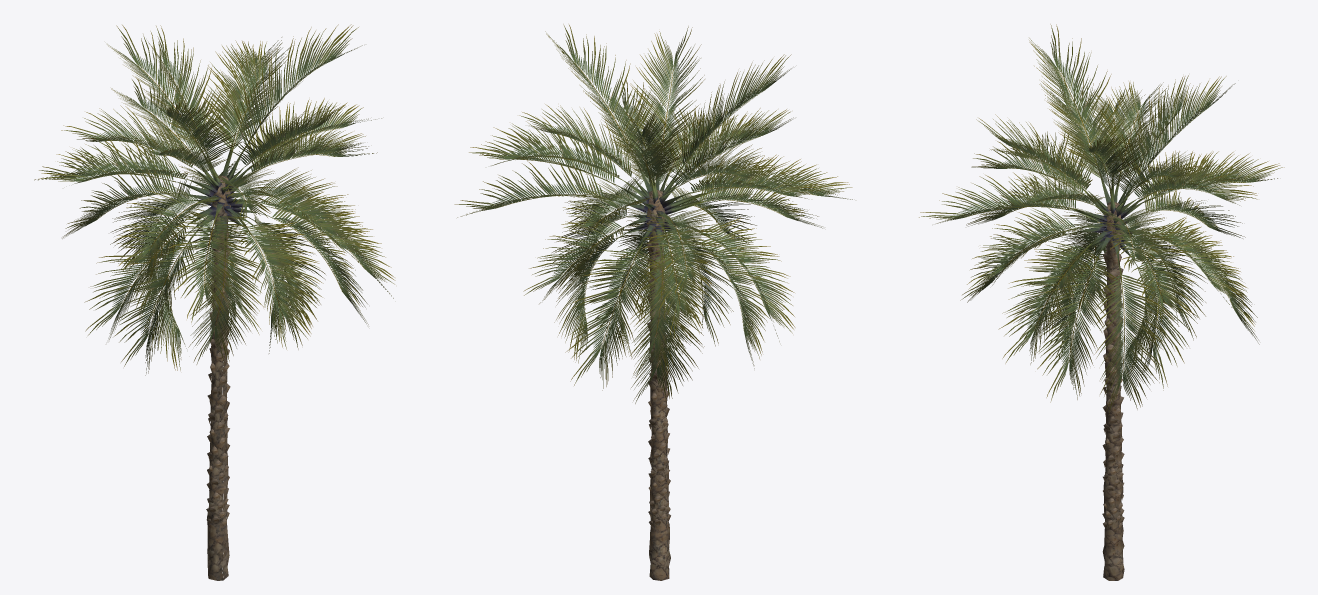
Rendered from b12_date_palm.glb.
3 views of the same model, side by side, from view 1: azimuth 30°, elevation 25°; view 2: azimuth 150°, elevation 25°; view 3: azimuth 270°, elevation 25° (orthographic). The views are drawn at different scales.
Visible parts, largest first — view 1: b12_date_palm; view 2: b12_date_palm; view 3: b12_date_palm.
Part boxes in pixels (bbox=[...]): b12_date_palm: bbox=[34, 24, 395, 580]; b12_date_palm: bbox=[454, 24, 852, 580]; b12_date_palm: bbox=[919, 24, 1284, 580].
Size of the model in its own units: 1 by 1.34 by 0.9551.
4 materials, 4 textured.
